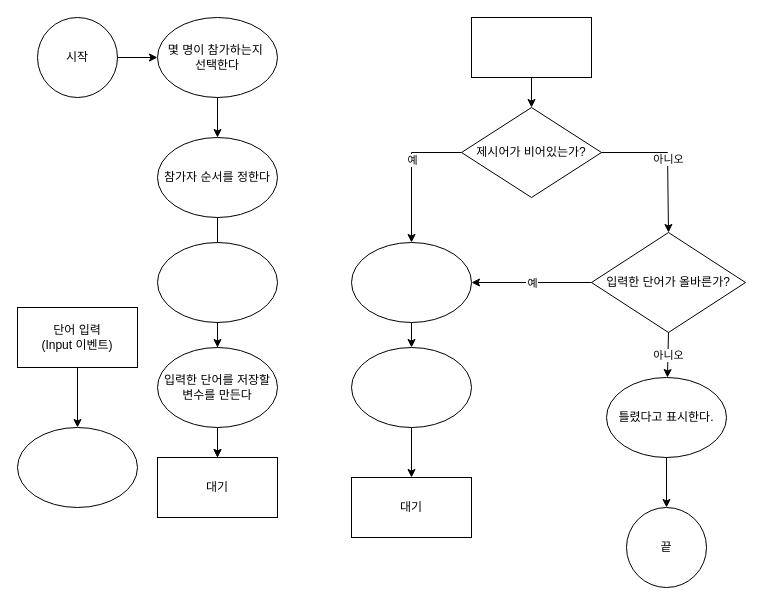
The diagram is 763 pixels wide and 605 high, and some of its shapes have lost their labels. The box of each missing label's shape, as (x1, y1, x2, y2) in pixels:
다음 사람에게 순서를 넘긴다: (350, 346, 472, 428)
입력 버튼 클릭: (470, 16, 592, 78)
입력된 단어가 제시어가 된다: (350, 242, 472, 322)
입력한 단어를 저장한다: (16, 426, 138, 508)
제시어를 저장할 변수를 만든다: (156, 242, 278, 322)
